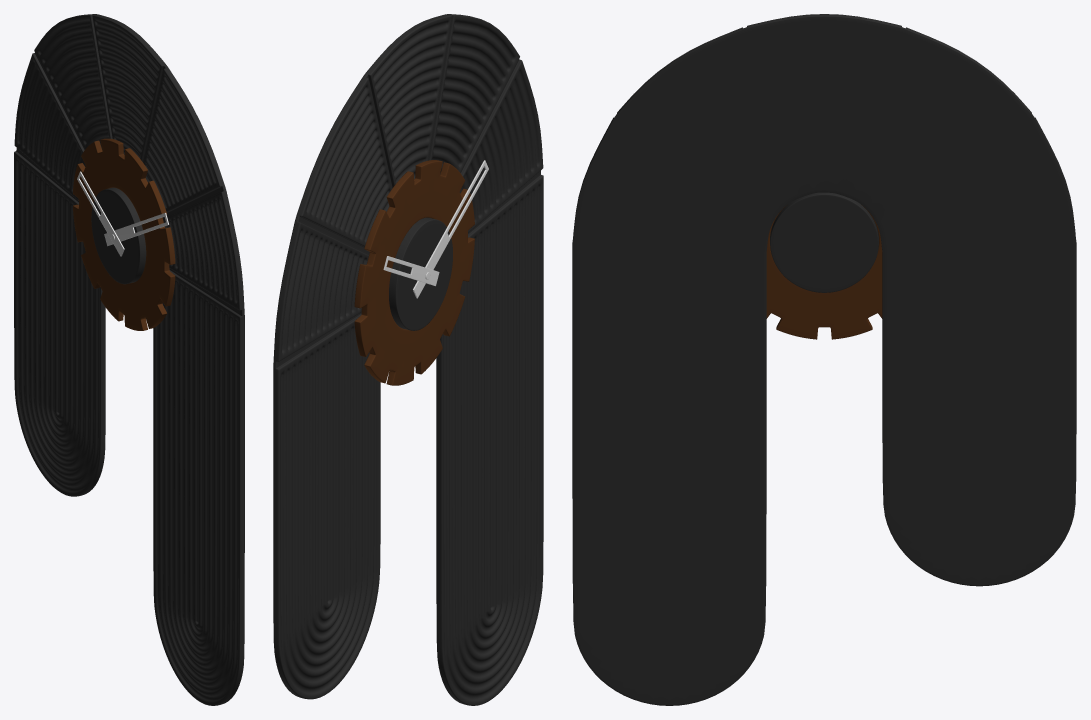
3 renders of one model, left to right at view 1: azimuth 30°, elevation 25°; view 2: azimuth 150°, elevation 25°; view 3: azimuth 270°, elevation 25°, orthographic. The views are drawn at different scales.
Visible parts, largest first — view 1: Item_body, Item_radial, Item_rotor, Item_hour, Item_min; view 2: Item_body, Item_radial, Item_rotor, Item_min, Item_hour; view 3: Item_body, Item_rotor, Item_radial.
Boxes of the visible parts, x1,y1,x2,y2 form: Item_body: [14, 14, 244, 705]; Item_radial: [73, 138, 175, 330]; Item_rotor: [91, 187, 146, 284]; Item_hour: [77, 171, 124, 256]; Item_min: [104, 213, 168, 245]; Item_body: [273, 14, 543, 705]; Item_radial: [354, 160, 474, 385]; Item_rotor: [389, 217, 452, 330]; Item_min: [413, 160, 488, 298]; Item_hour: [383, 256, 439, 286]; Item_body: [572, 14, 1076, 705]; Item_rotor: [770, 192, 878, 292]; Item_radial: [766, 205, 882, 339].
Size of the model in its own units: 0.0356 by 1.08 by 0.7167.
3 materials, 1 textured.
